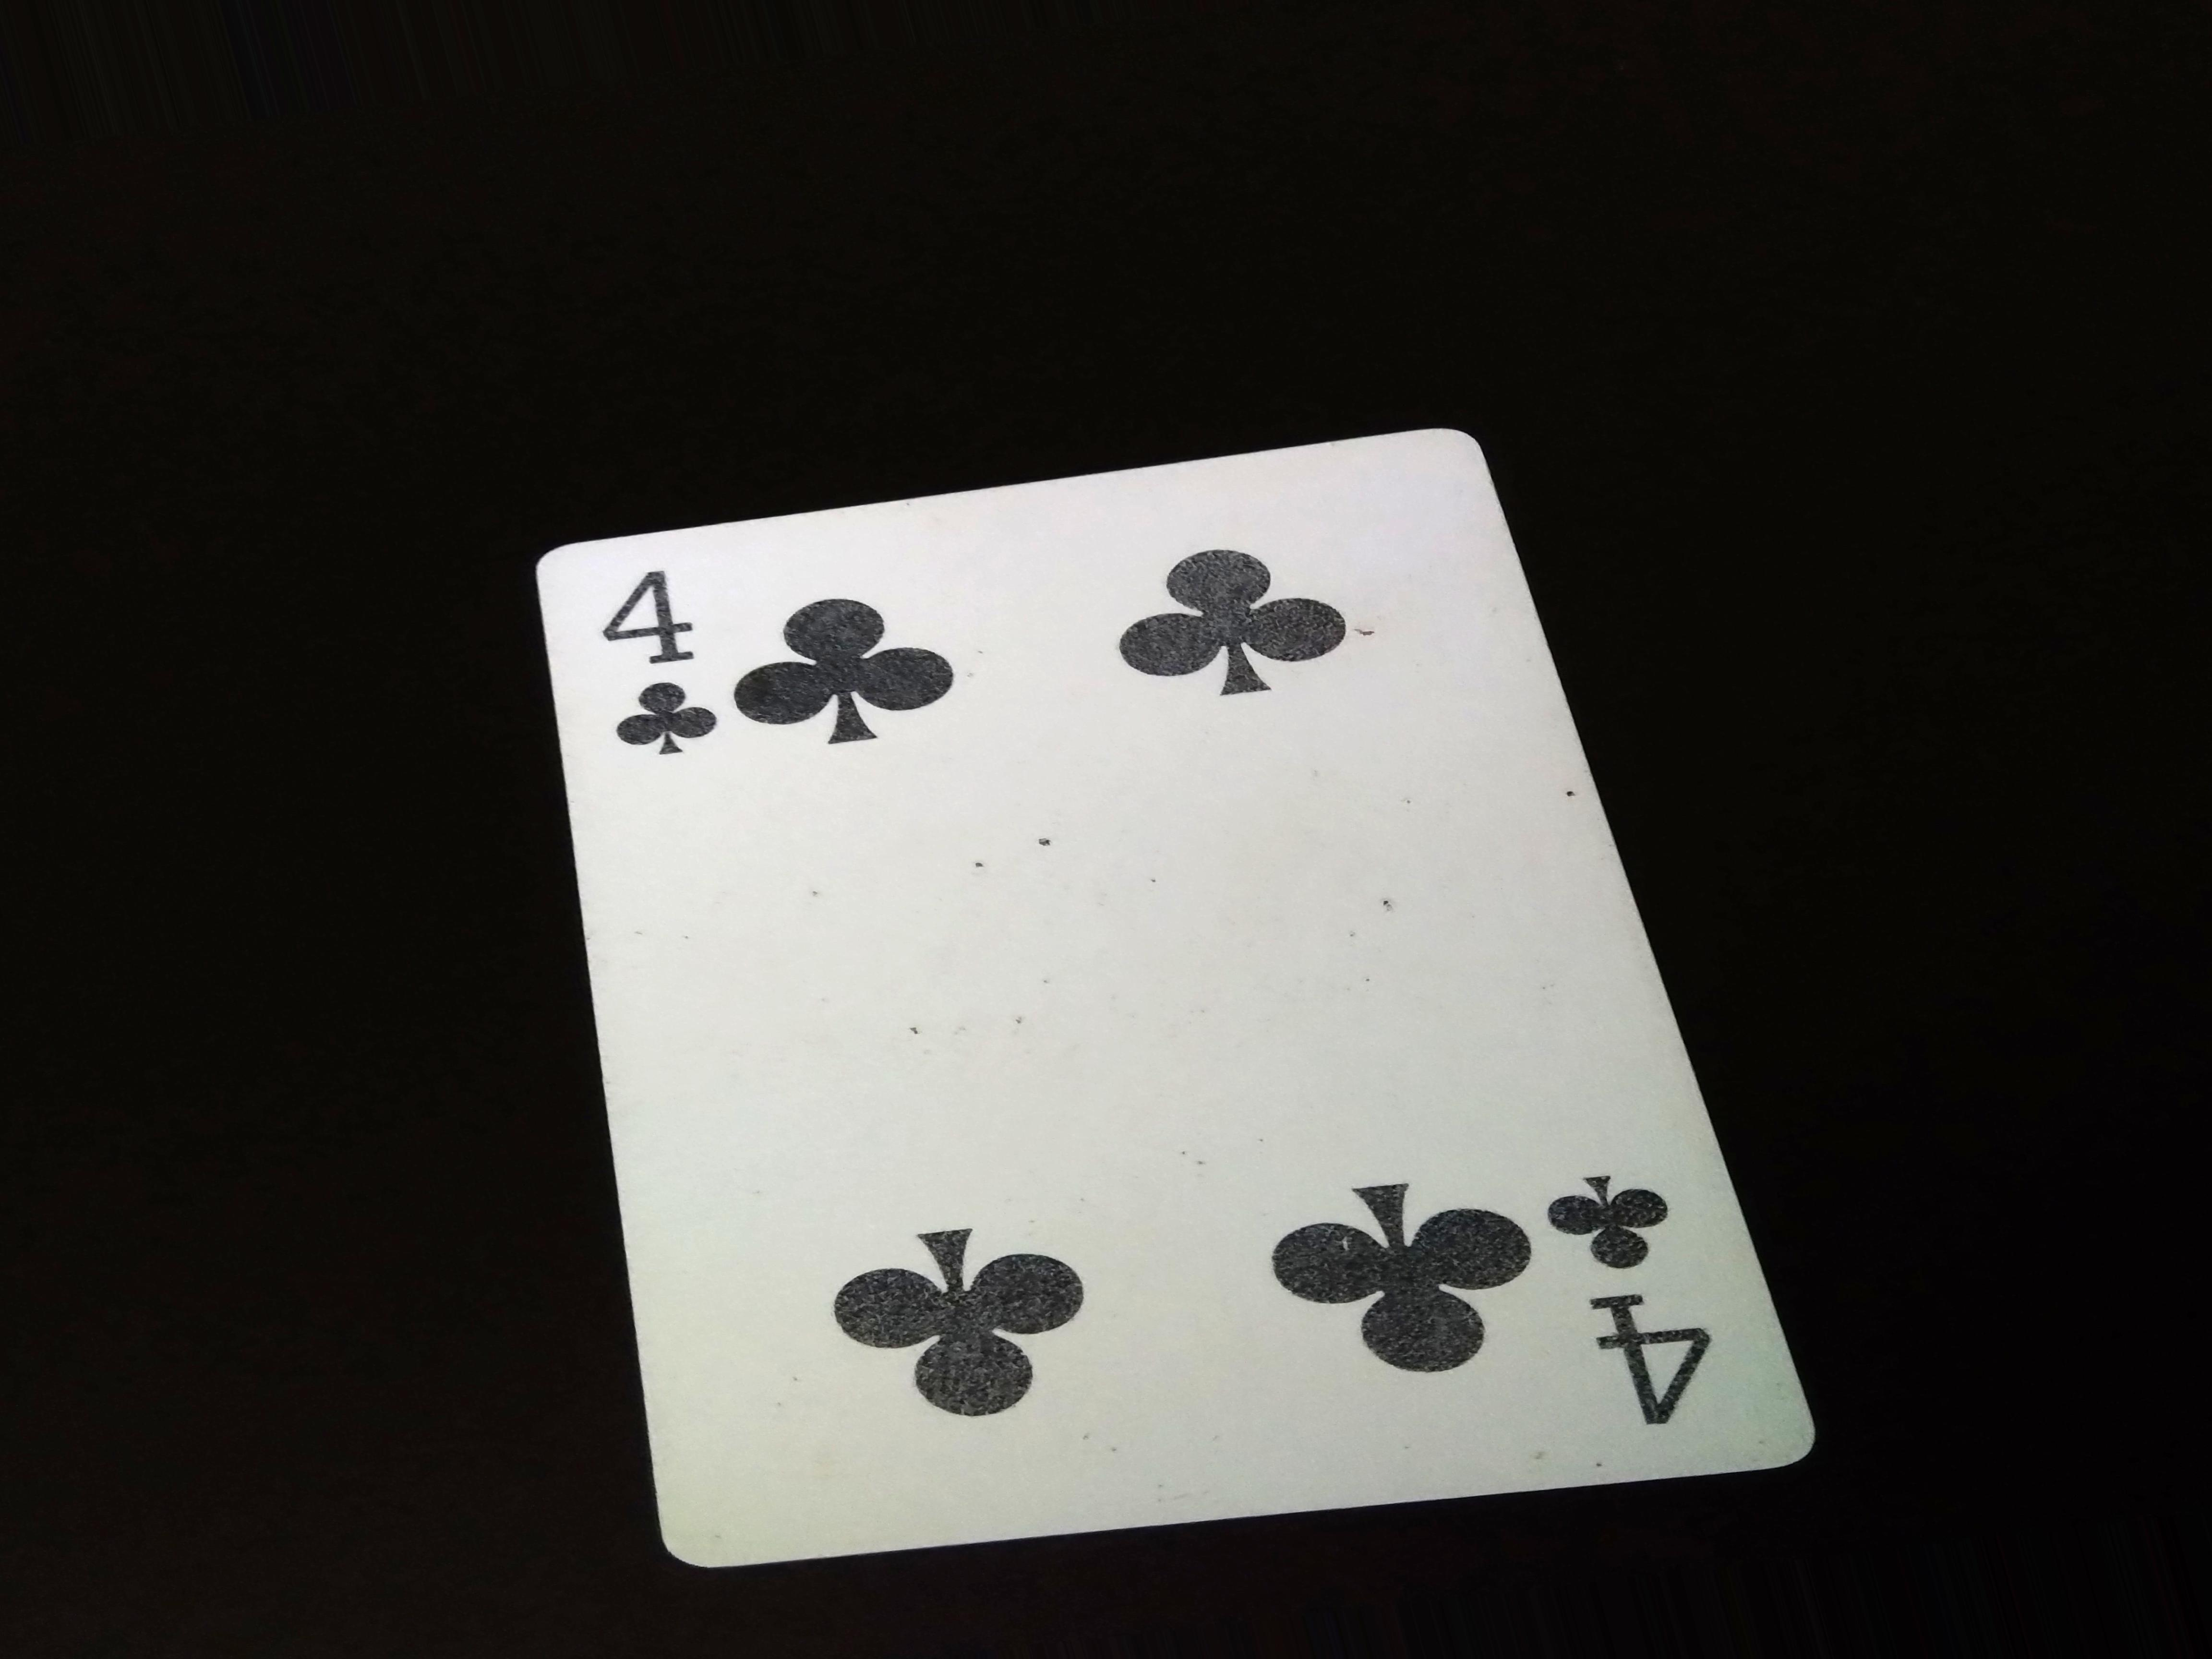4C: (590, 558, 726, 775)
